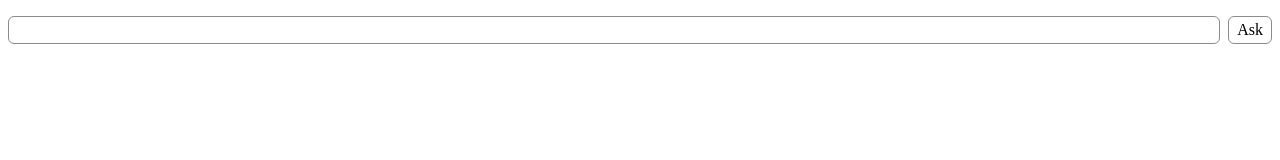
Test: AssistantBox citing, framing once and going back (spec assistant §4) › keeps the turns a real list inside the log, not a list that lost its role (Lighthouse listitem)
Type "q" into the field at (614, 30), box [8,16,1220,44]
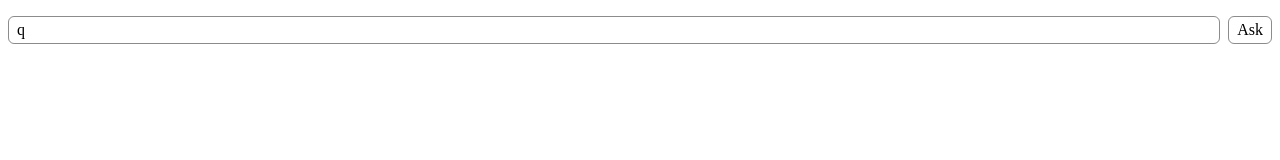
Submit the form, box [8,16,1272,44]
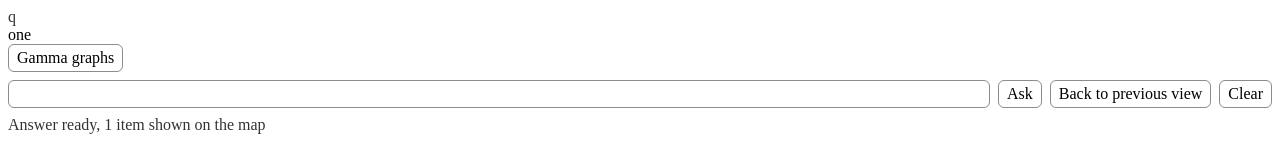
Check: the number of list items is 1, box [8,8,123,72]
